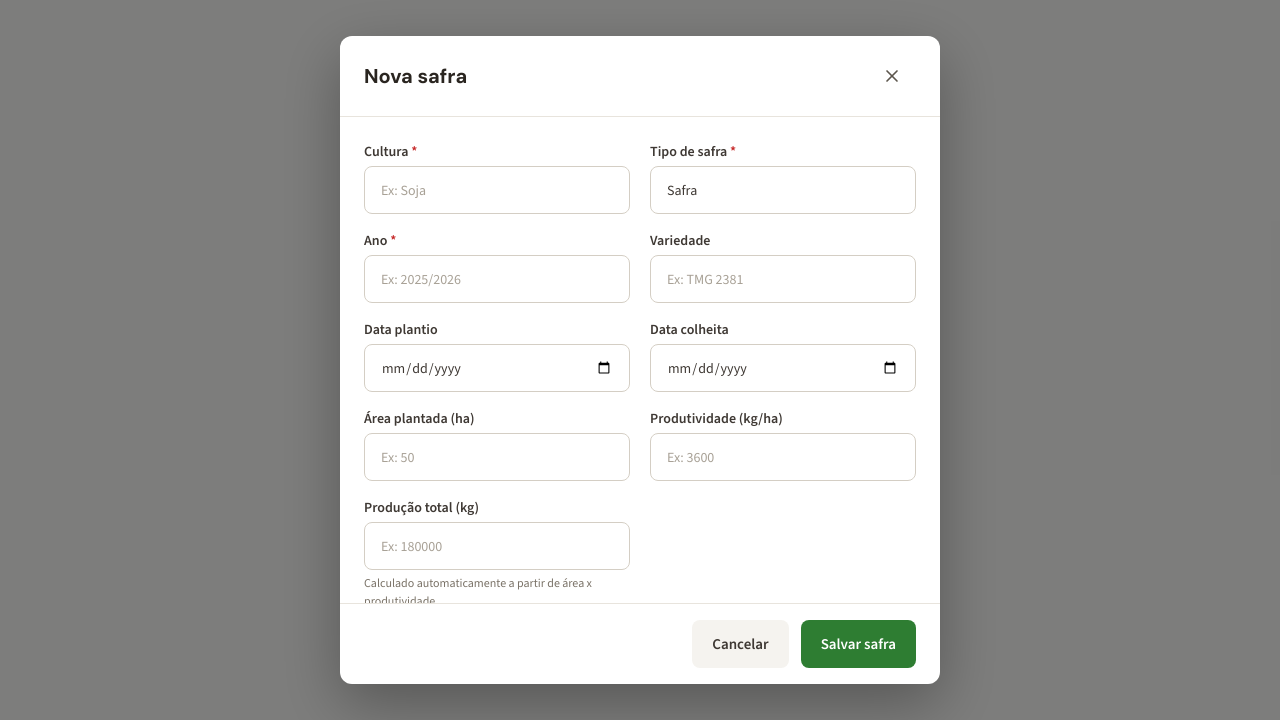
AddCropSeasonModal › shows validation error on blur of empty required field
Click the field labelled "Cultura *".
click(497, 190)  # box [364,166,630,214]
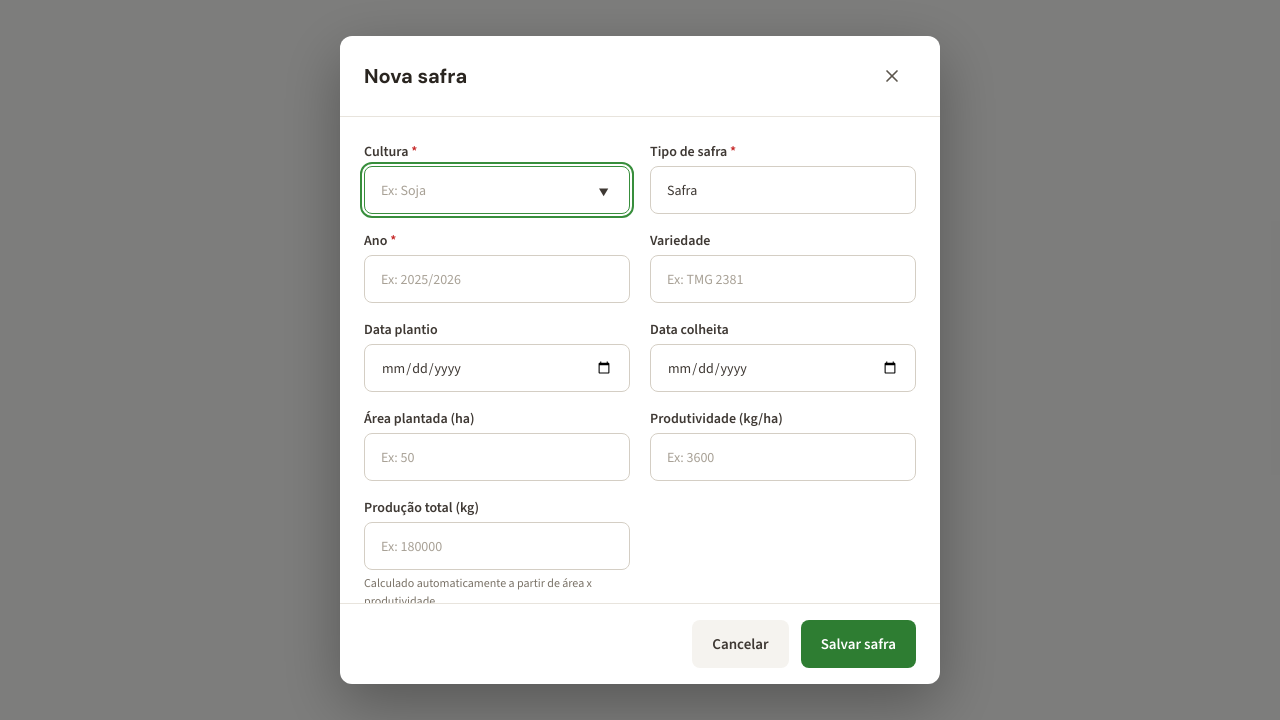
Press Tab
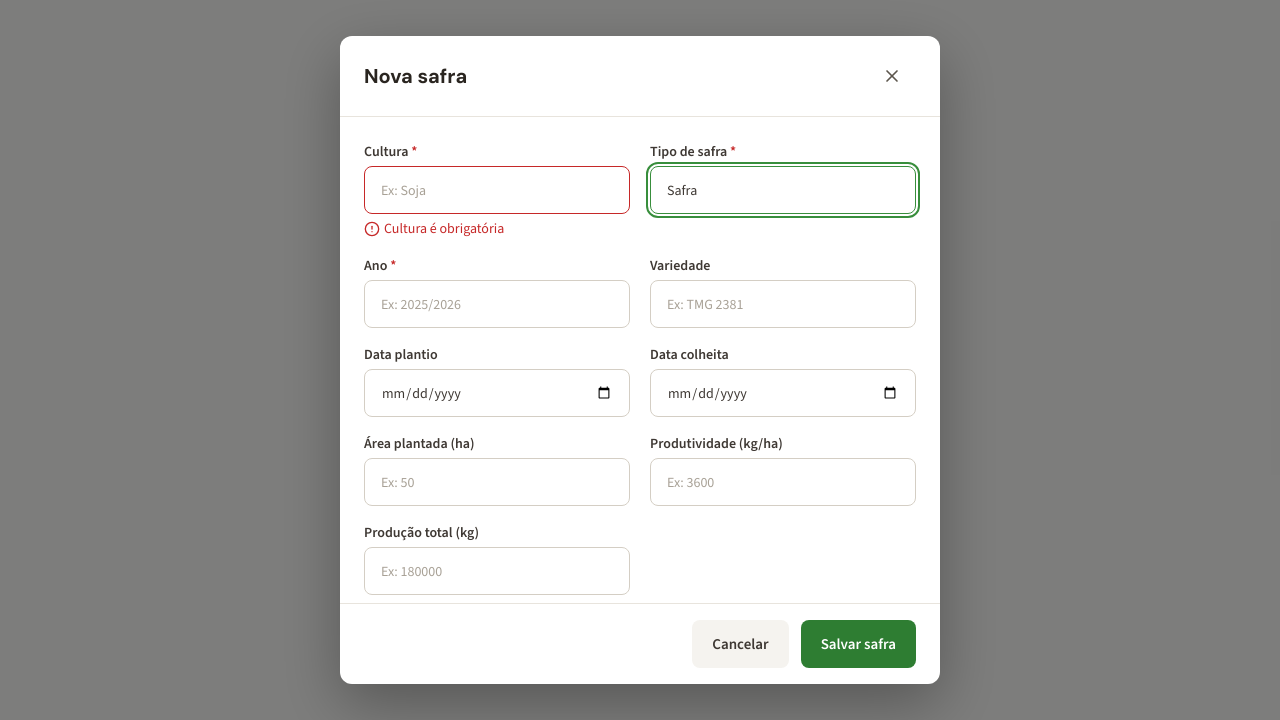
Result: the text "Cultura é obrigatória" is shown at [364,219,504,238]
